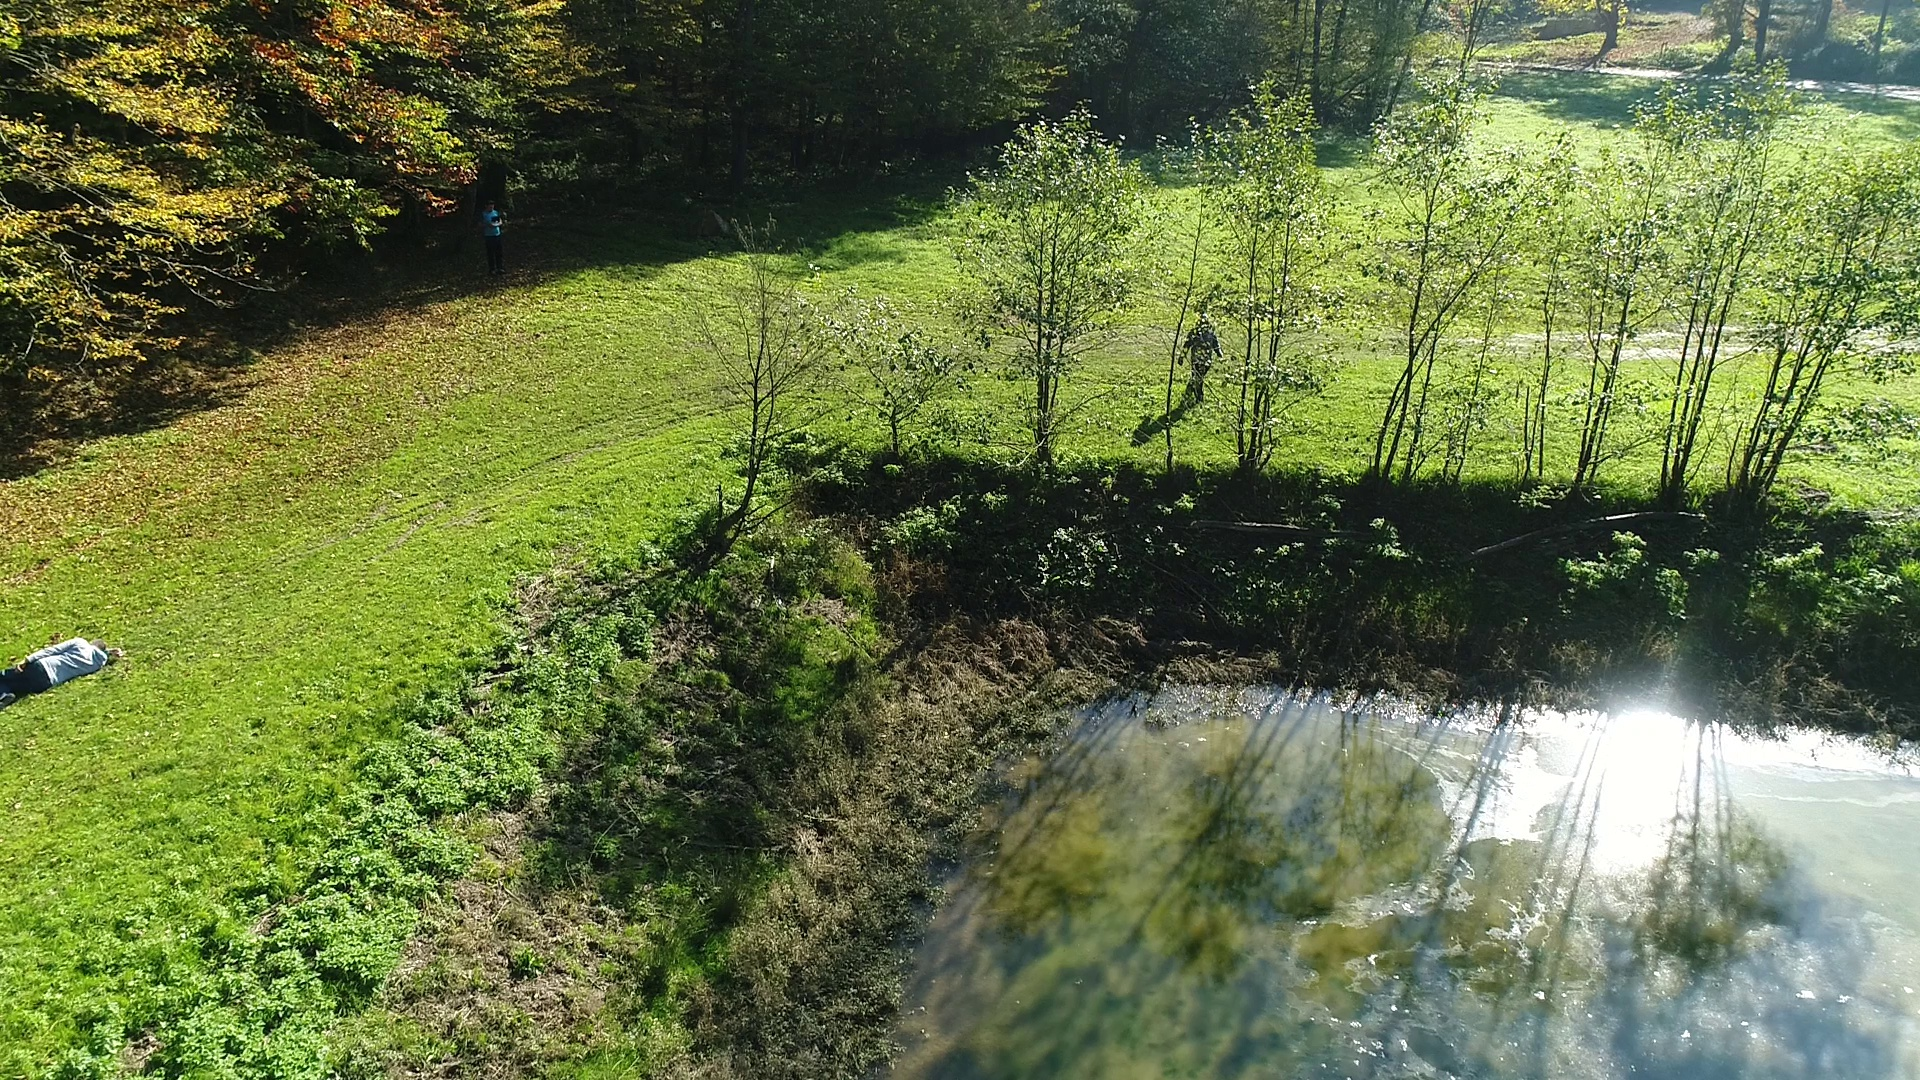person: (1, 635, 122, 705), (1178, 315, 1223, 404), (480, 200, 508, 274)
